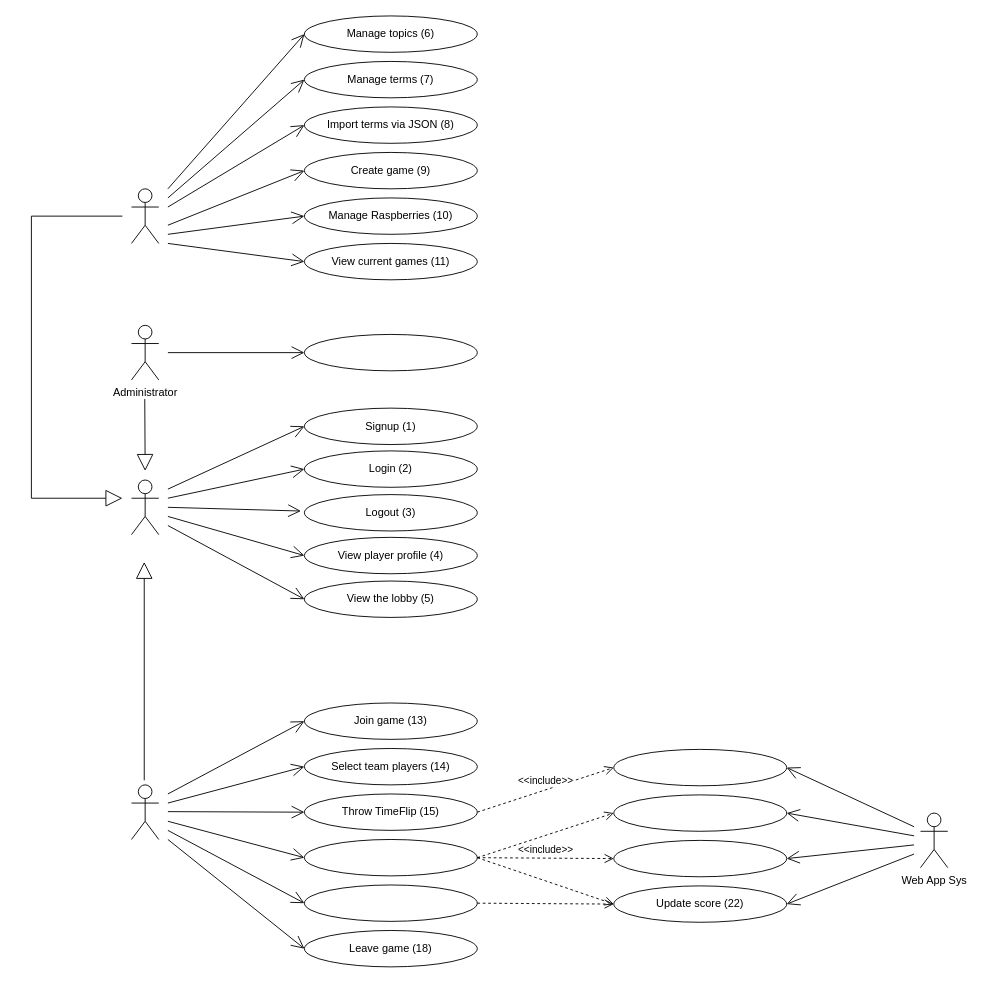
Image size: 983x983. Some labels were removed from this diagram. Here are the shapes that lost their labels. From the top down, the box of each, then its label:
(131, 188, 159, 243): Game Manager
(303, 334, 477, 371): Manage users (12)
(131, 479, 159, 535): User
(613, 748, 787, 786): Start timer (19)
(131, 784, 159, 839): Player
(613, 794, 787, 831): Select next player/term (20)
(303, 839, 477, 876): Confirm answer (16)
(613, 839, 787, 877): Stop timer (21)
(303, 884, 477, 921): End game (17)
